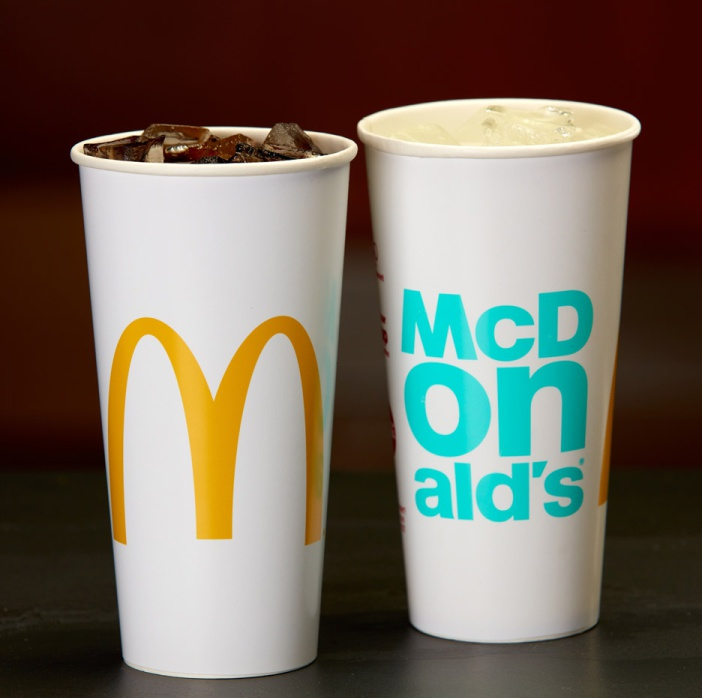mcdonalds: (94, 307, 329, 552)
